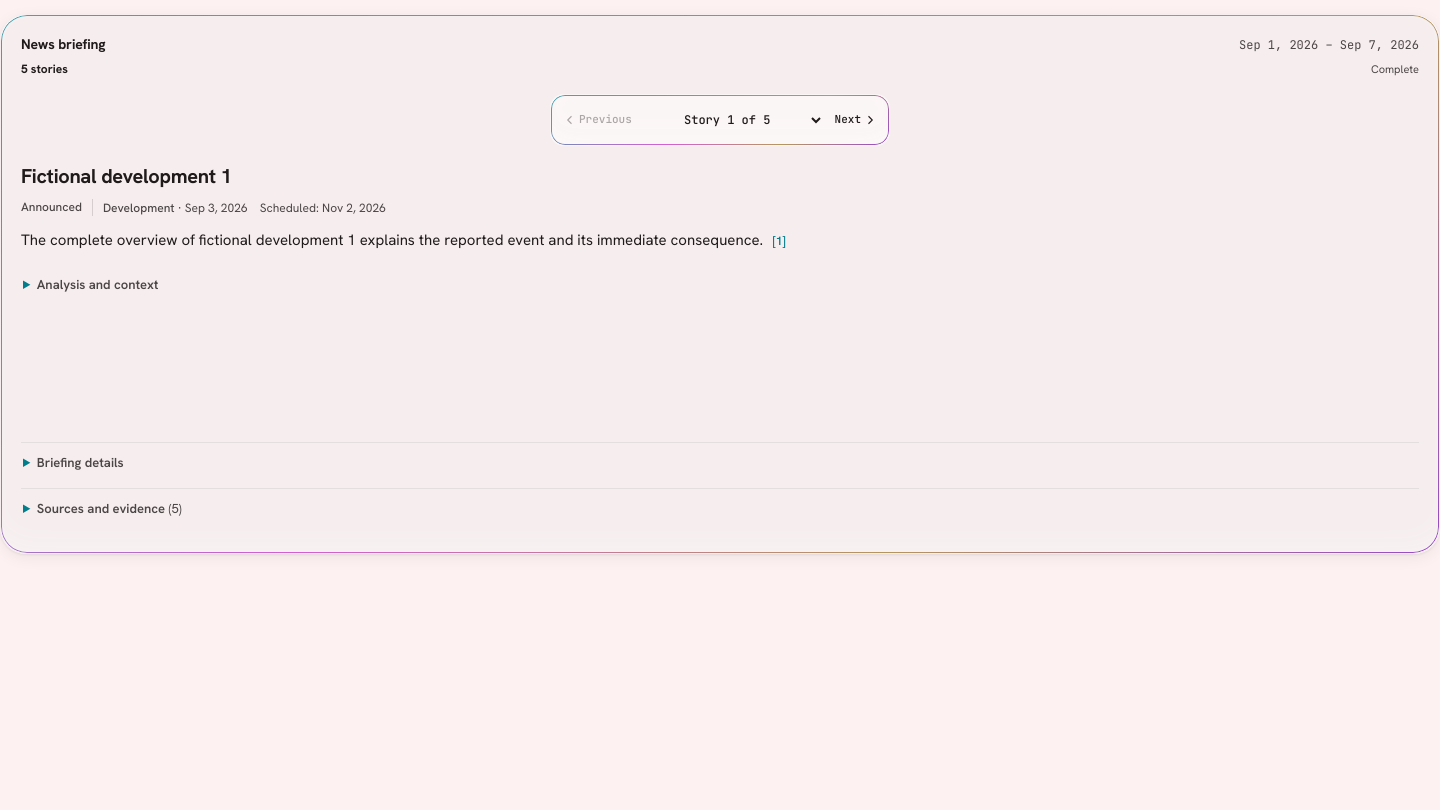
Test: displays the supplied timezone and historical covered interval independently of the as-of time
Expected: the text "Fictional developments during the first week of September." is not shown
Expected: the text "America/Toronto" is not shown
Click the heading "Briefing details". click: (80, 463)
box: [37,454,124,471]
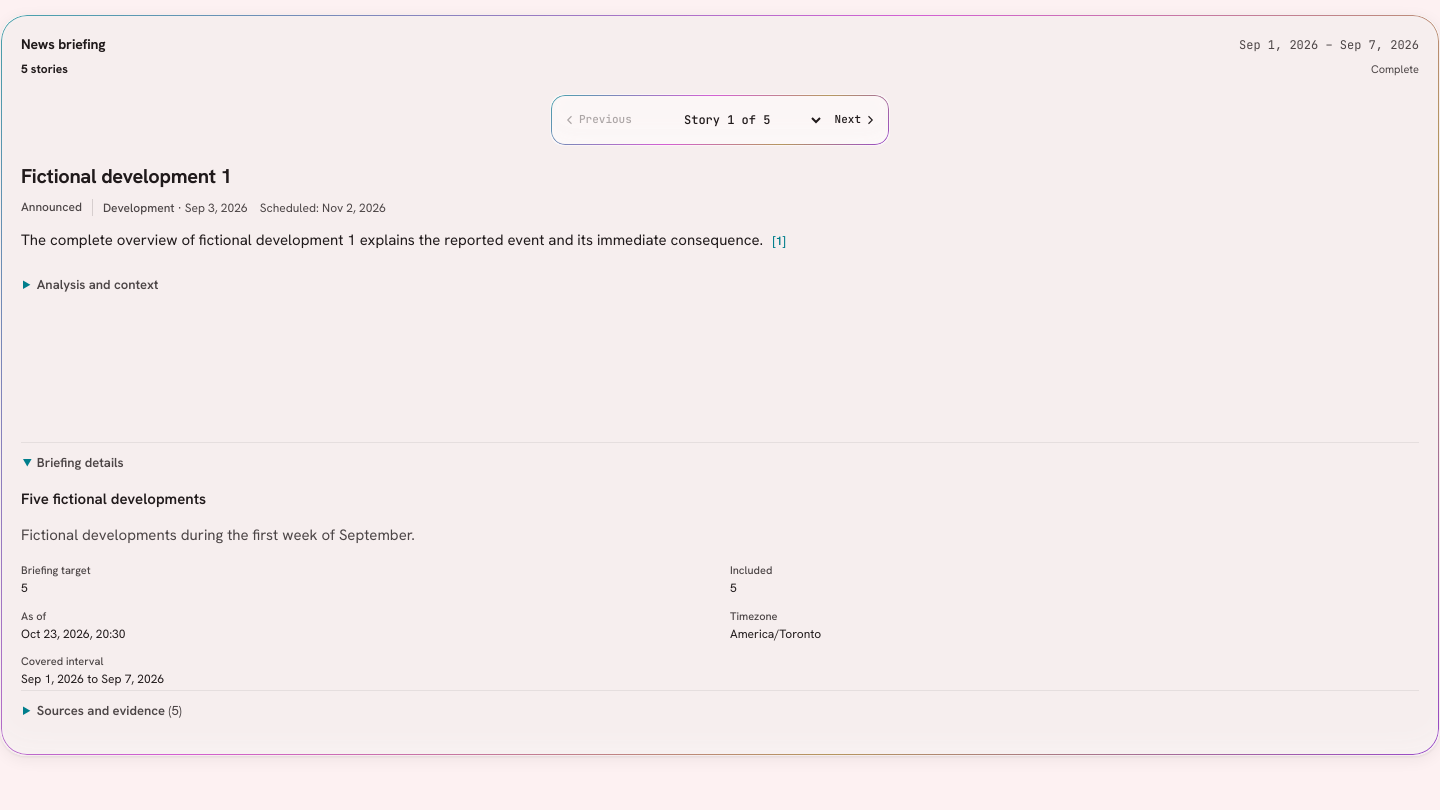
Expected: the text "Fictional developments during the first week of September." is shown, [21,525,415,545]
Expected: the text "America/Toronto" is shown, [730,626,821,642]
Expected: the text "Oct 23, 2026, 20:30" is shown, [21,626,126,642]
